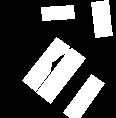parkingspot: (36, 48, 85, 103), (22, 37, 69, 91), (63, 74, 104, 118), (91, 0, 112, 37), (41, 5, 74, 20)
